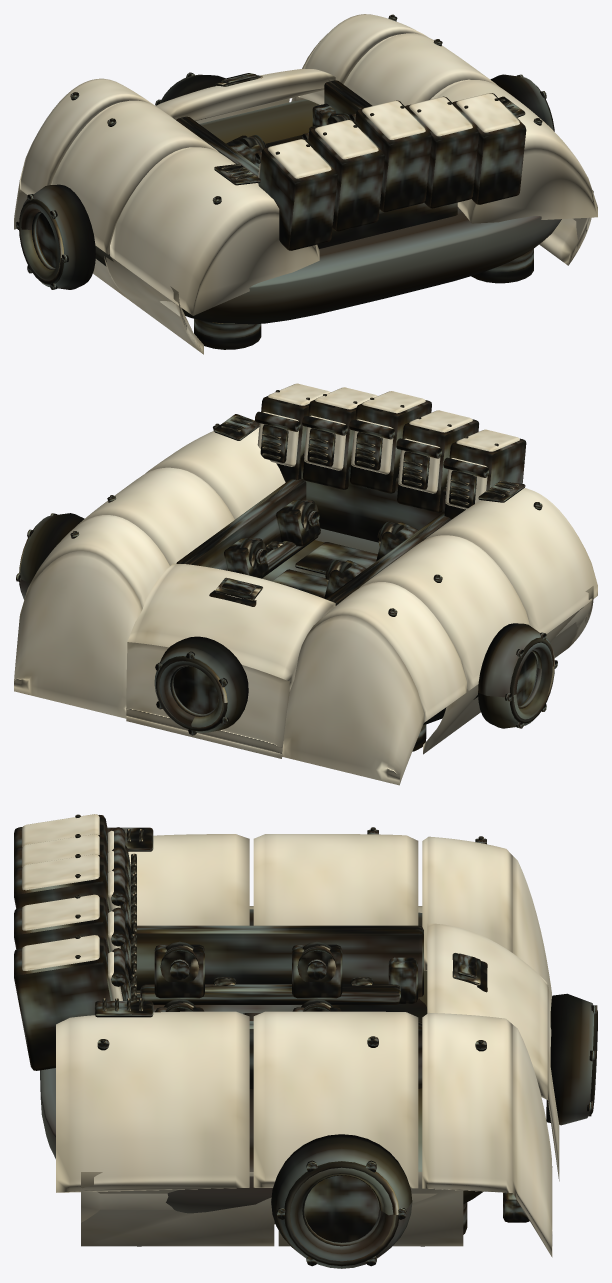
File: body-assembler-astra5-v3.glb
3 renders of one model, top to bottom at view 1: azimuth 30°, elevation 25°; view 2: azimuth 150°, elevation 25°; view 3: azimuth 270°, elevation 25°, orthographic. The views are drawn at different scales.
Parts seen in each view (by area): view 1: assembler-detail-ceramic, assembler-detail-metal, assembler-steel, assembler-detail-brass; view 2: assembler-detail-ceramic, assembler-detail-metal, assembler-detail-brass, assembler-steel; view 3: assembler-detail-ceramic, assembler-detail-metal, assembler-detail-brass, assembler-steel.
Part boxes in pixels (bbox=[...]): assembler-detail-ceramic: bbox=[14, 14, 597, 354]; assembler-detail-metal: bbox=[16, 15, 553, 349]; assembler-steel: bbox=[95, 99, 561, 324]; assembler-detail-brass: bbox=[19, 14, 554, 284]; assembler-detail-ceramic: bbox=[14, 383, 597, 785]; assembler-detail-metal: bbox=[16, 396, 557, 751]; assembler-detail-brass: bbox=[19, 390, 554, 731]; assembler-steel: bbox=[315, 528, 478, 724]; assembler-detail-ceramic: bbox=[22, 814, 559, 1257]; assembler-detail-metal: bbox=[14, 815, 597, 1268]; assembler-detail-brass: bbox=[75, 814, 597, 1266]; assembler-steel: bbox=[40, 909, 483, 1224].
Size of the model in its own units: 1.67 by 0.6773 by 1.3.
Materials: 4 (4 with a texture image).
